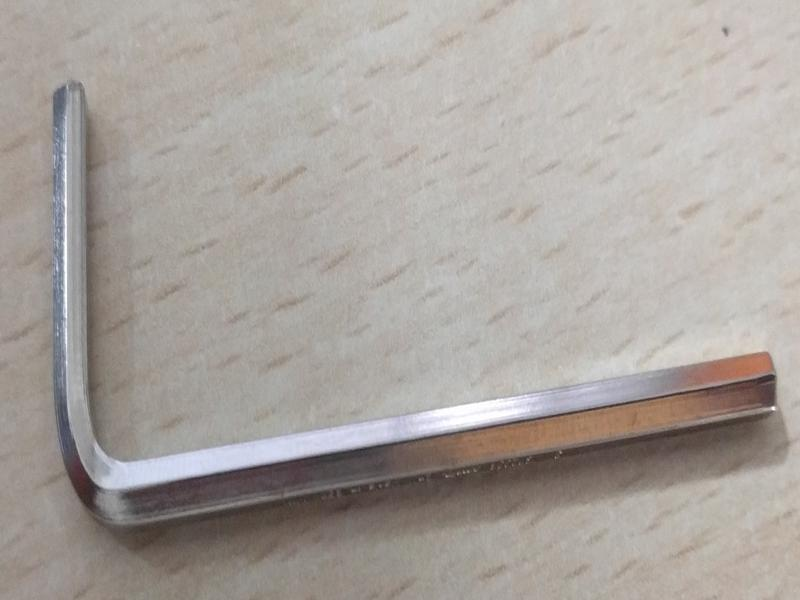turner: (30, 60, 789, 554)
